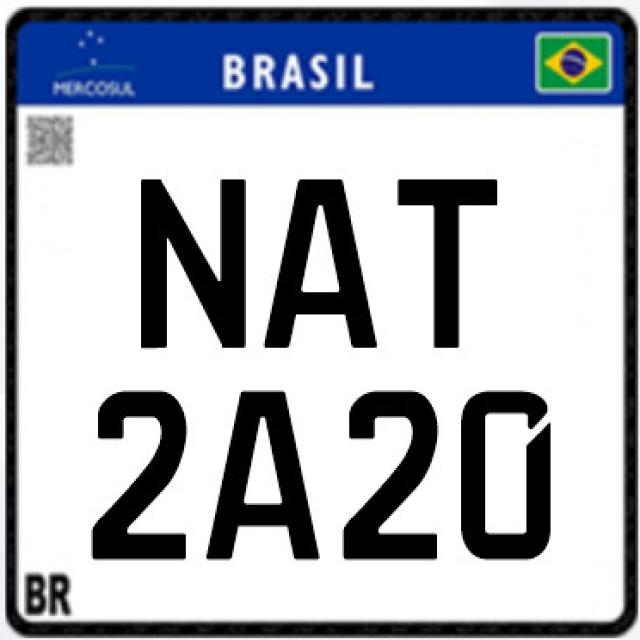Placa_mercosul_carro: (17, 18, 626, 624)
